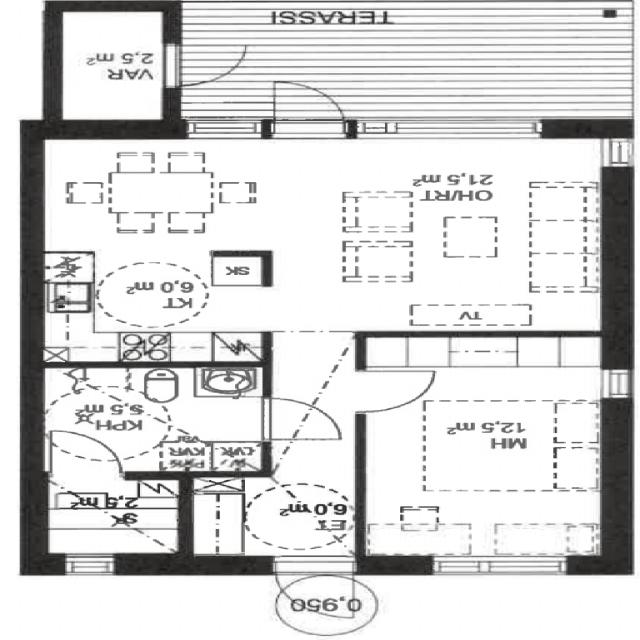door: (275, 555, 352, 620), (274, 78, 346, 139), (162, 46, 250, 87), (52, 430, 120, 480), (355, 371, 435, 411), (262, 399, 342, 439)
